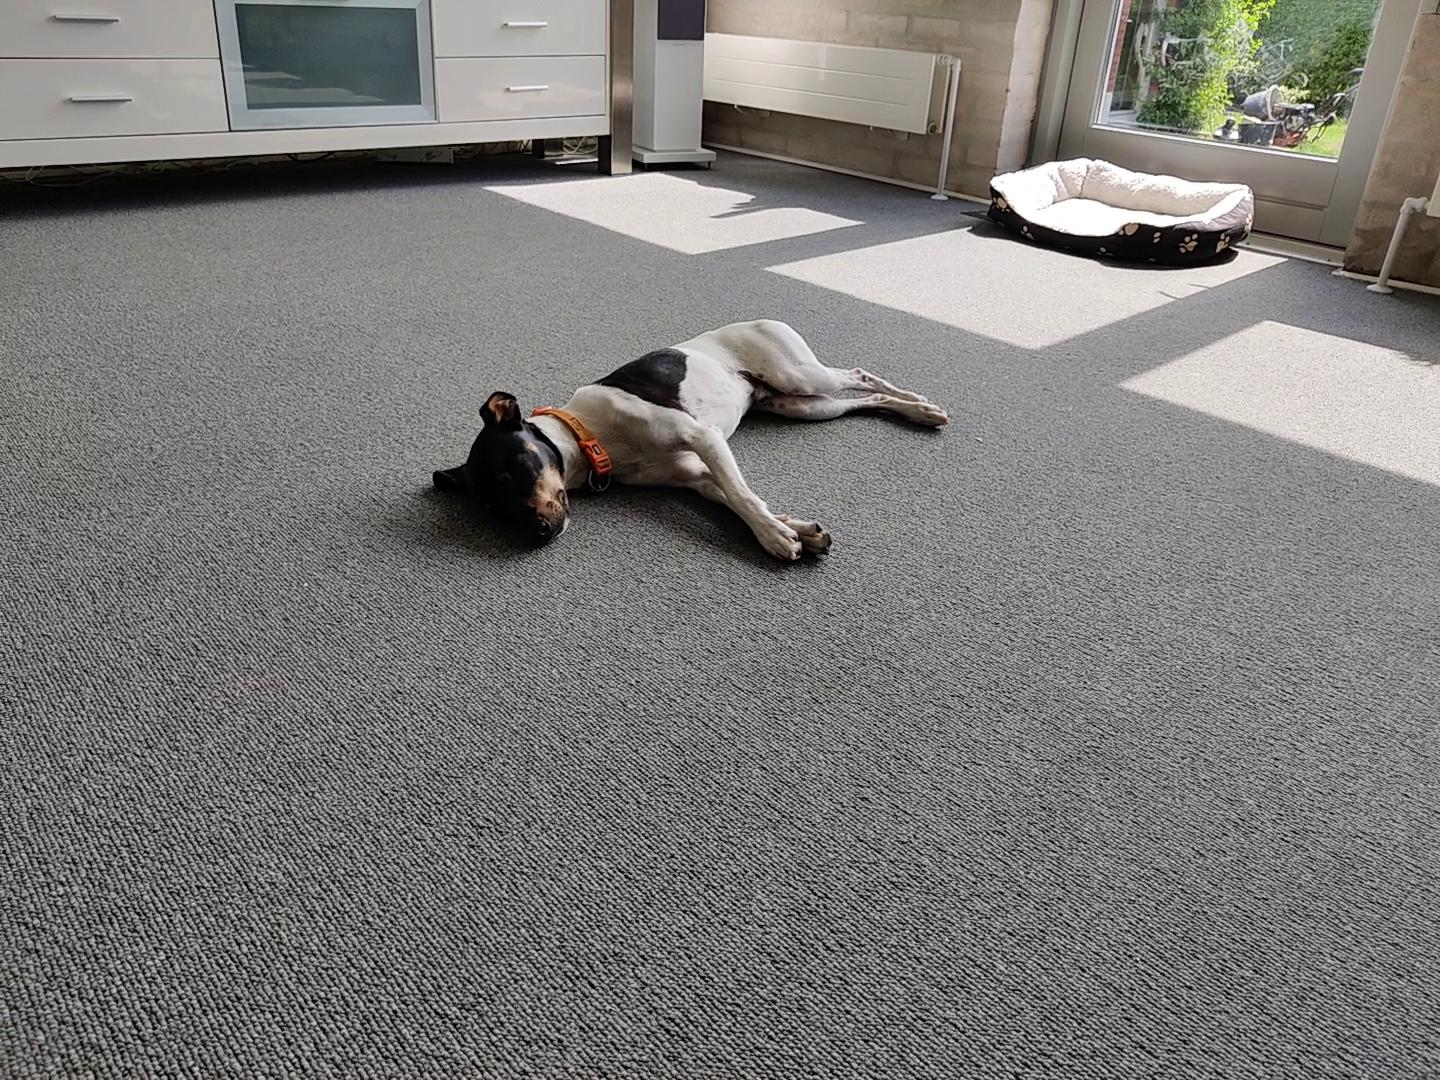Dog: (425, 313, 955, 563)
